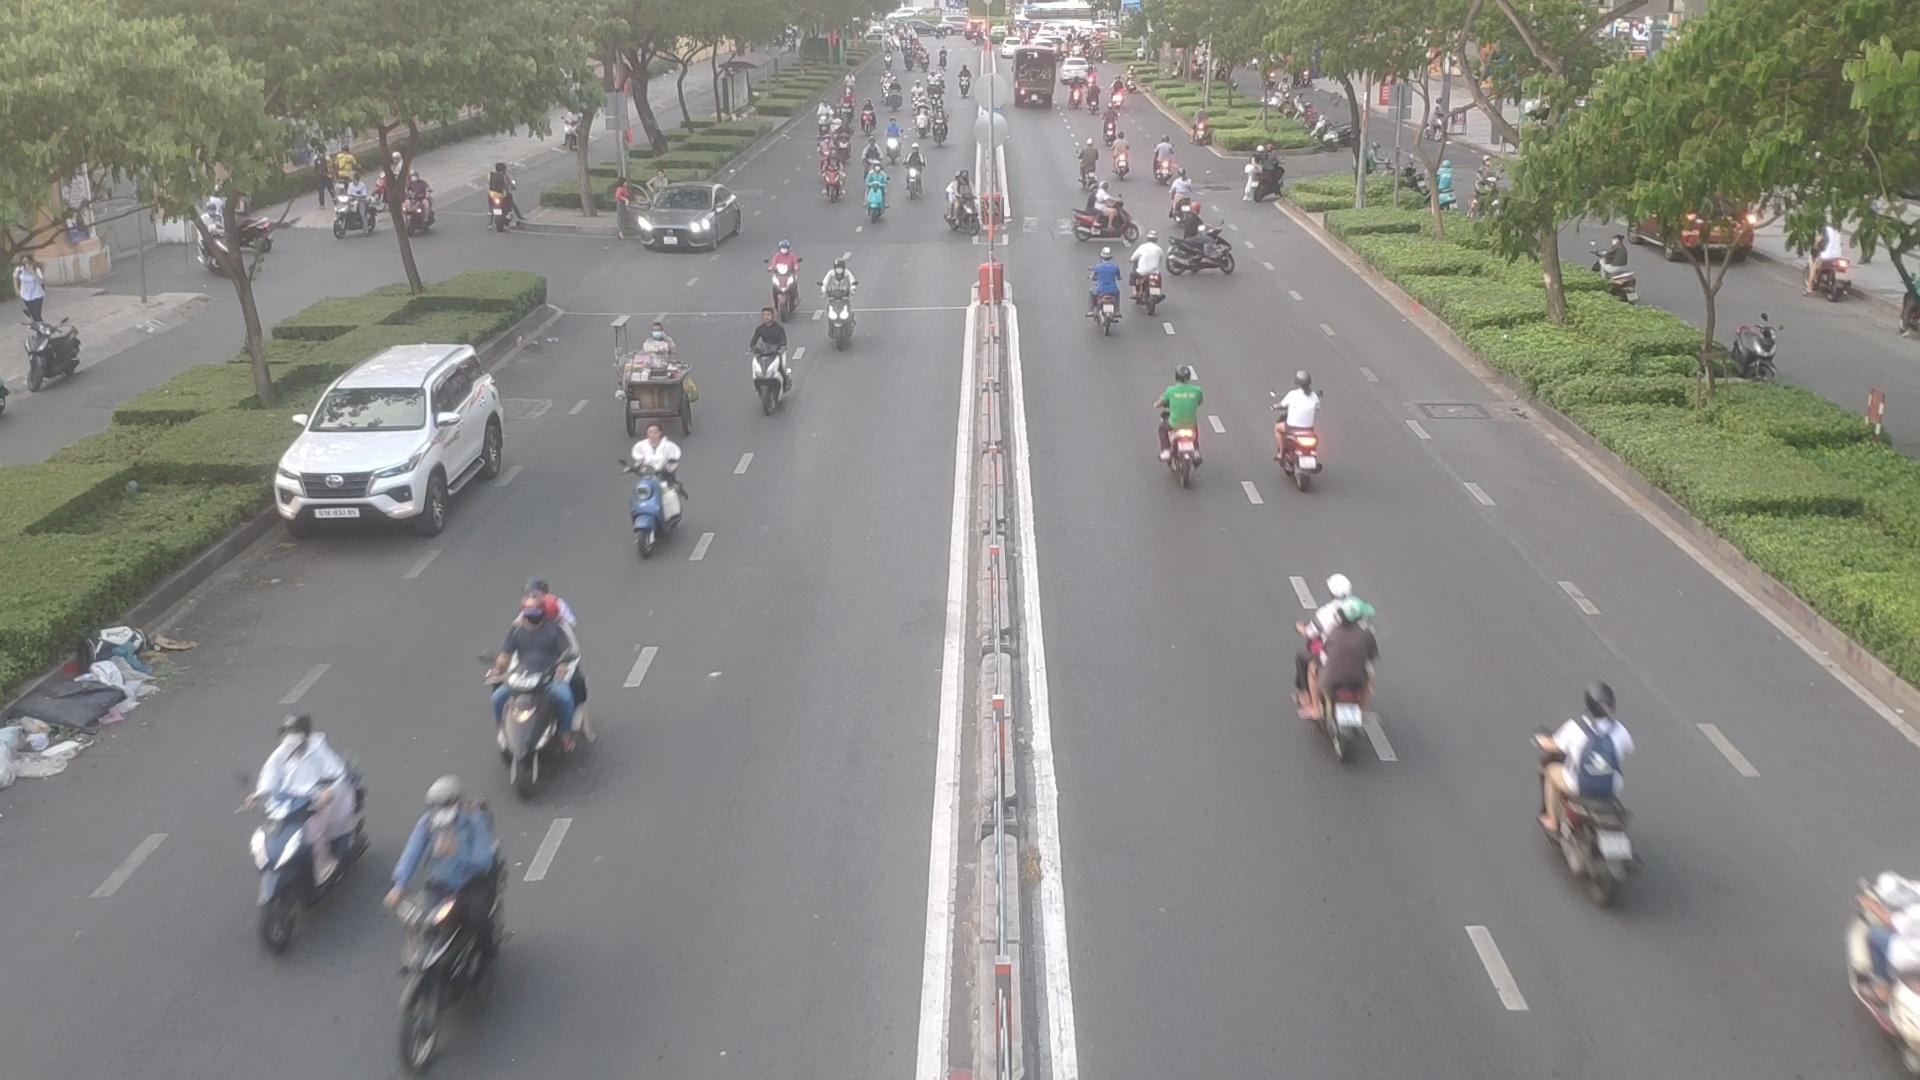car: (277, 345, 518, 535), (616, 190, 748, 258)
motorbike: (218, 713, 361, 943), (1542, 702, 1660, 899), (398, 800, 520, 989), (493, 584, 608, 777), (1279, 579, 1393, 752), (1853, 862, 1920, 1072), (624, 426, 695, 549), (1141, 371, 1211, 488), (1269, 376, 1327, 483), (738, 314, 798, 413), (818, 261, 869, 355), (1178, 208, 1242, 277), (1079, 257, 1125, 338), (1069, 196, 1135, 248), (764, 240, 810, 305), (1106, 142, 1133, 182)
